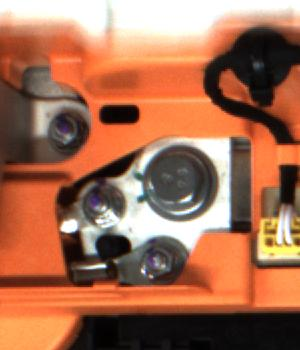nut_b: (140, 144, 225, 218)
screw_s: (80, 185, 124, 223), (136, 243, 174, 280), (49, 111, 79, 151)
